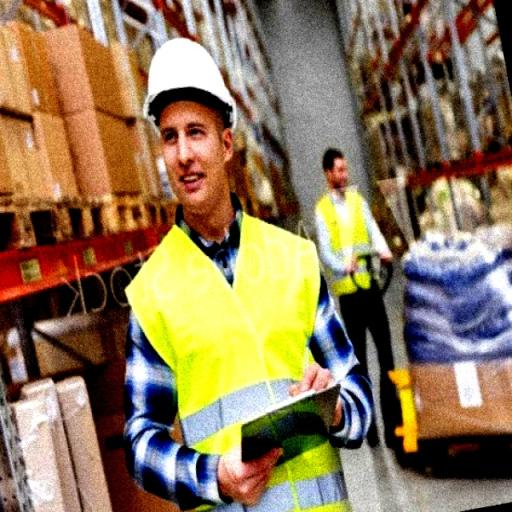Person: (56, 24, 360, 506), (284, 119, 422, 451)
helmet: (133, 30, 250, 126)
none: (140, 122, 220, 154), (315, 140, 354, 191)
vest: (130, 202, 370, 512), (310, 188, 383, 295)
